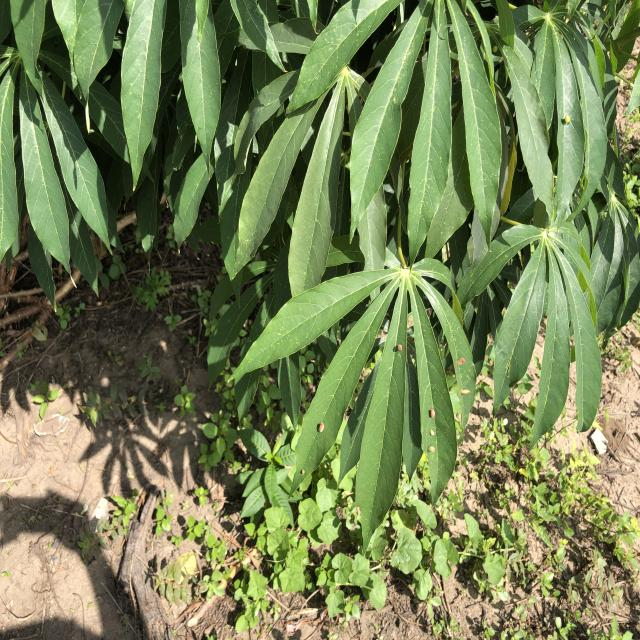Maleza: (396, 503, 625, 625), (207, 499, 355, 632)
Mosca: (424, 424, 440, 457), (558, 109, 576, 130), (311, 420, 331, 436), (423, 405, 440, 422), (450, 411, 463, 432), (456, 383, 470, 399), (395, 338, 406, 355), (298, 465, 311, 478)
